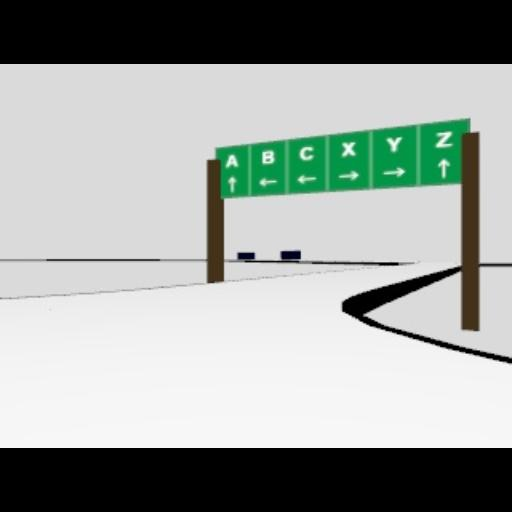A: (224, 154, 238, 168)
B: (260, 149, 274, 163)
C: (299, 146, 313, 160)
Left: (296, 172, 316, 184), (258, 176, 278, 186)
Right: (383, 166, 405, 178), (338, 170, 358, 180)
Straight: (436, 158, 450, 178), (227, 175, 237, 193)
X: (341, 141, 355, 157)
Y: (386, 136, 402, 152)
Z: (434, 129, 454, 147)
